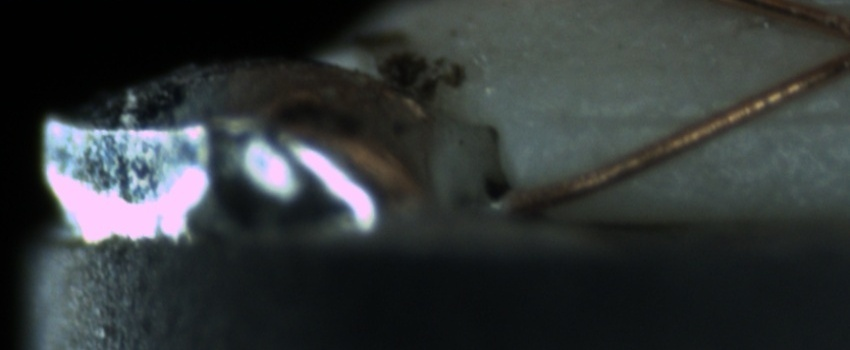CL: (830, 13, 850, 73)
DL: (534, 88, 850, 149)
